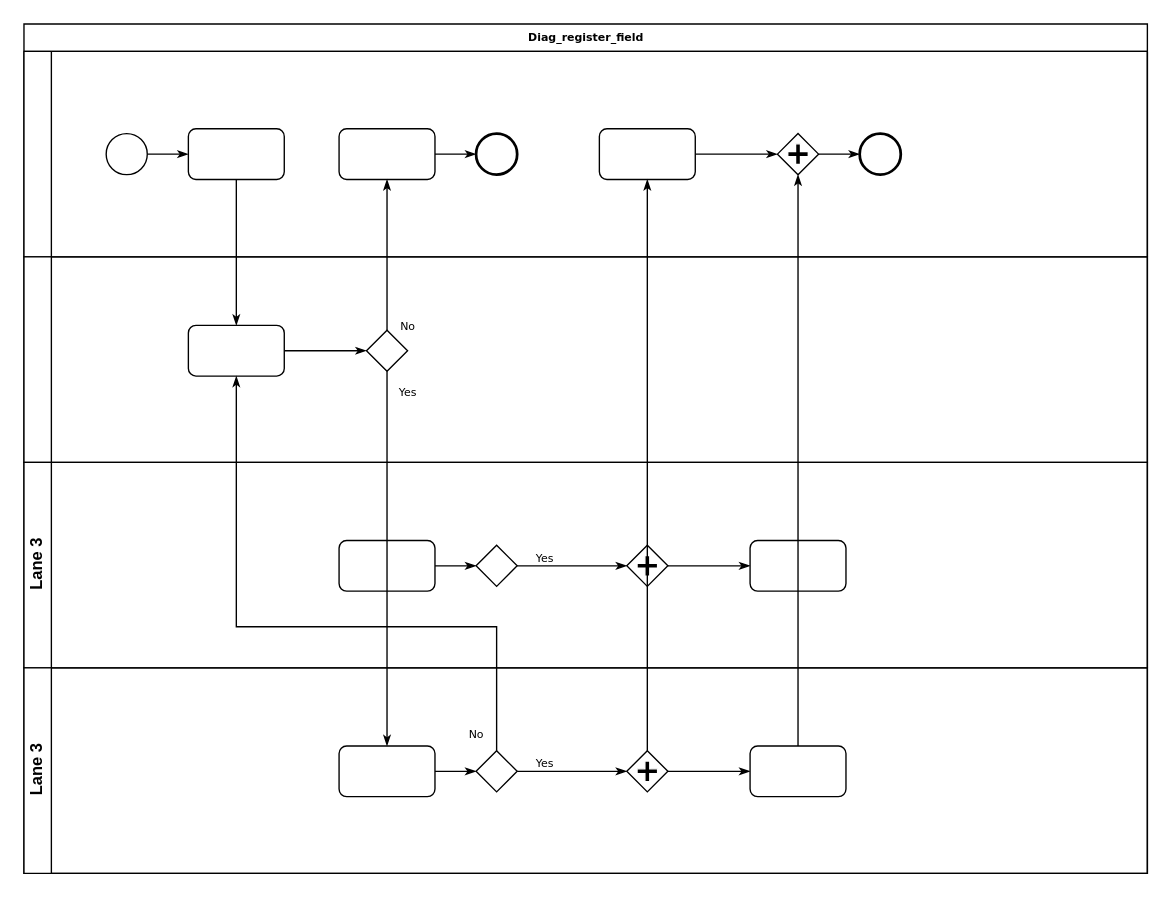
The diagram is 1171 pixels wide and 897 high, and some of its shapes have lost their labels. The box of each missing label's shape, as (x1, y1, x2, y2) in pixels:
Lane 1: (23, 50, 1147, 257)
Lane 2: (23, 256, 1147, 462)
